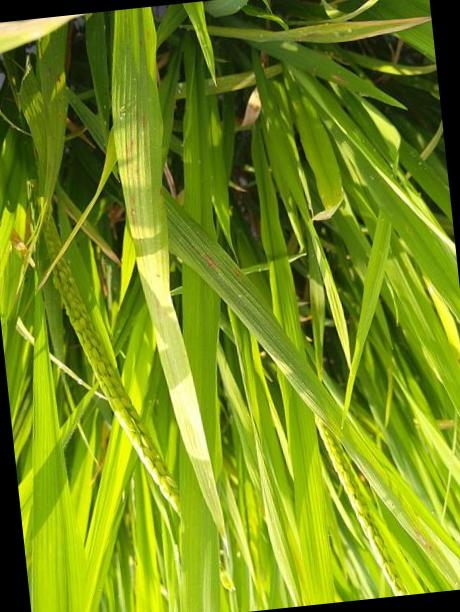Leaf Streak: (114, 114, 208, 458), (417, 533, 429, 552), (229, 266, 240, 283), (208, 255, 219, 267)
